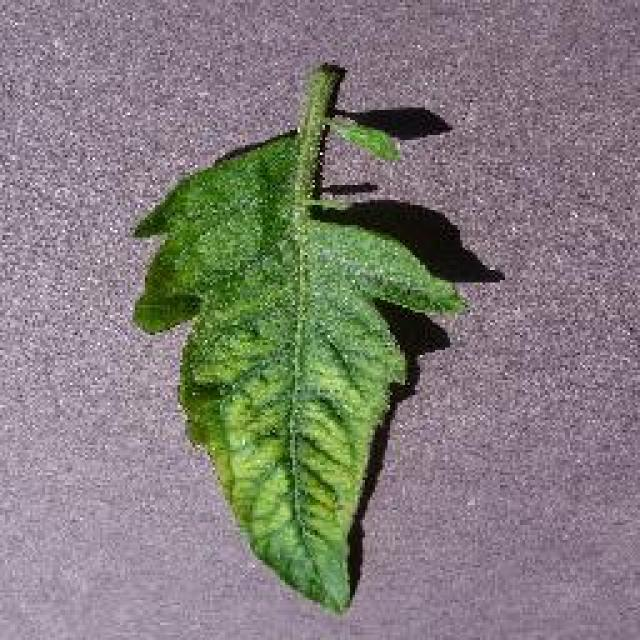Tomato___Tomato_mosaic_virus: (135, 65, 462, 610)
